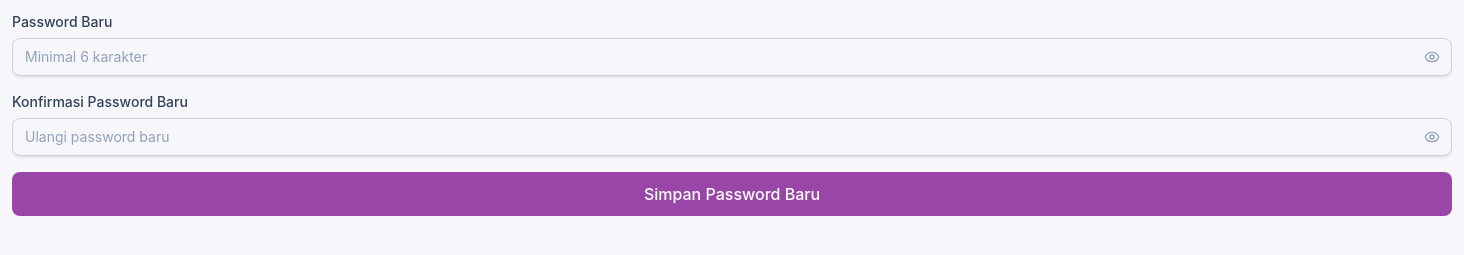
Scenario: ResetPasswordForm › menolak konfirmasi yang tidak sama
In the password field labelled "Password Baru": (732,57) [12,38,1452,76], type "rahasia123"
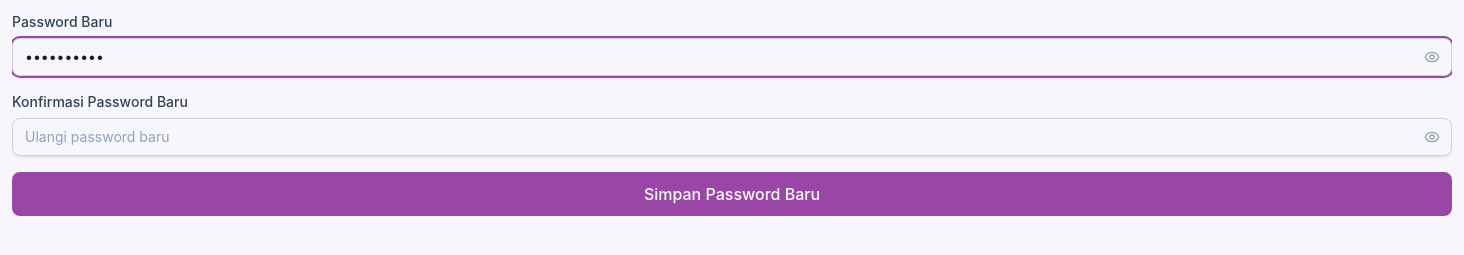
In the password field labelled "Konfirmasi Password Baru": (732,137) [12,118,1452,156], type "beda123"
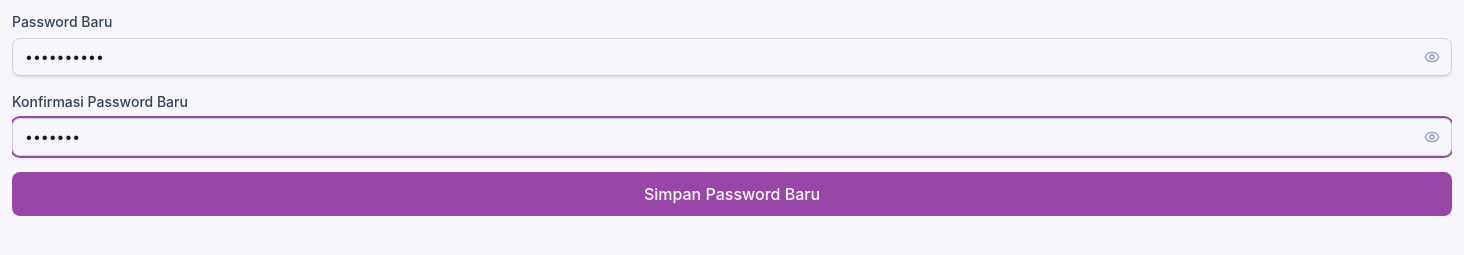
Click the button "Simpan Password Baru": (732,194) [12,172,1452,216]
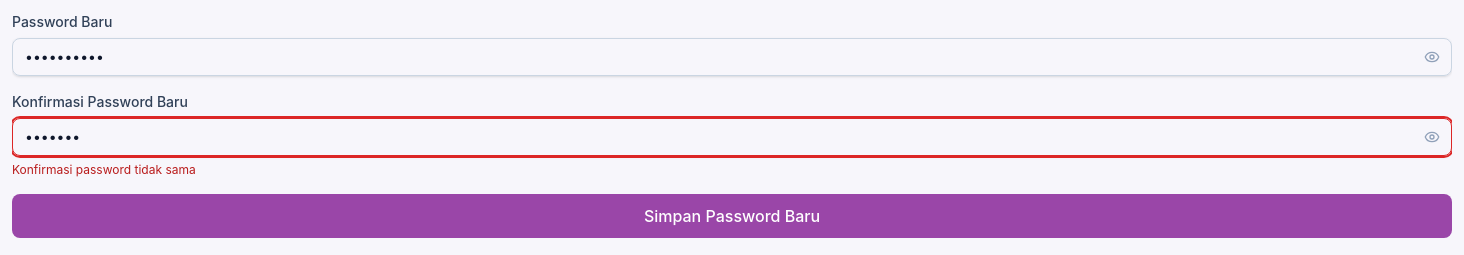
Result: the text "Konfirmasi password tidak sama" is shown at [12,162,196,177]
